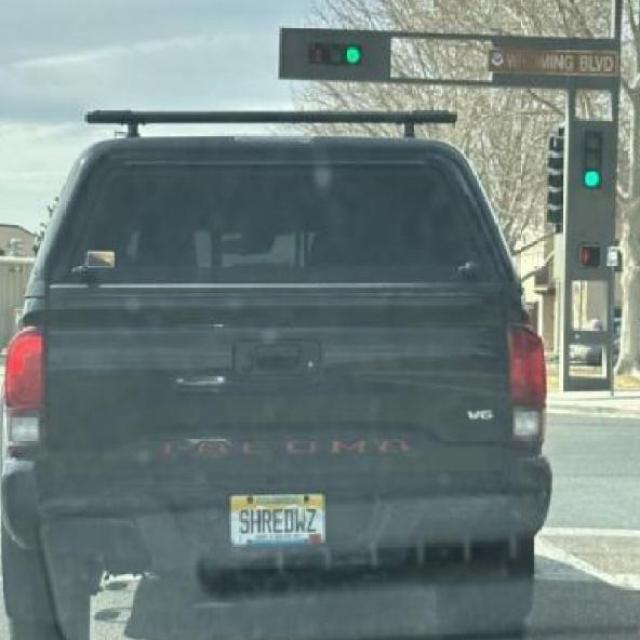license-plate: (224, 497, 330, 539)
